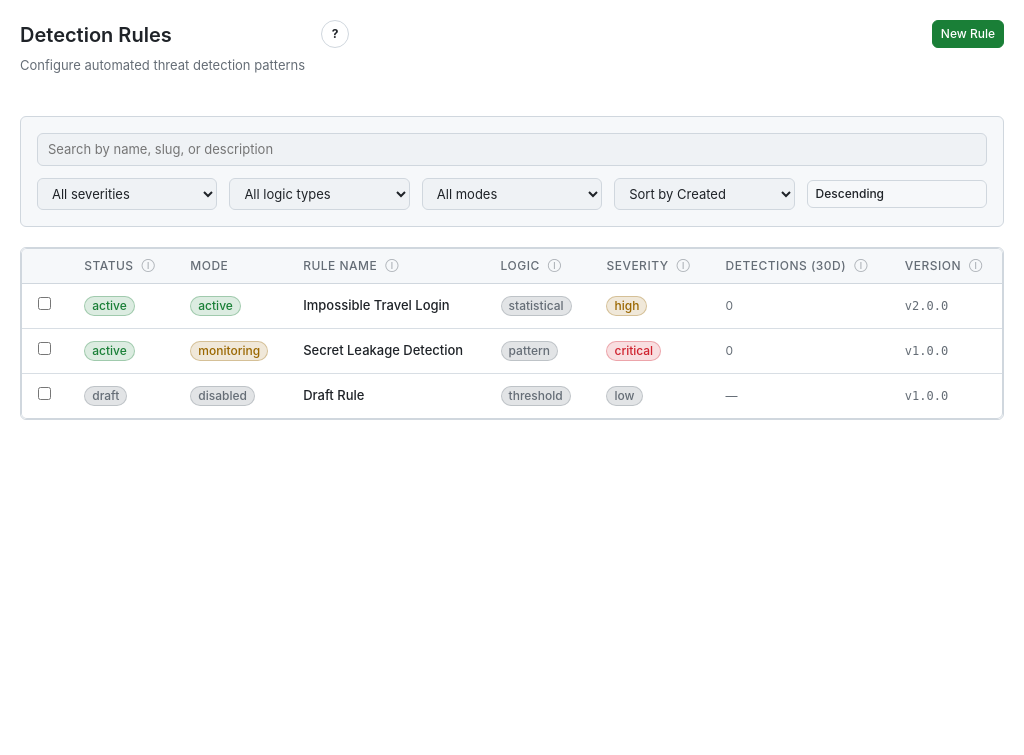
Test: RulesPage › opens a rule detail drawer on row click
Step 1. Click the text "Impossible Travel Login" → point(386, 306), box [303,296,469,316]
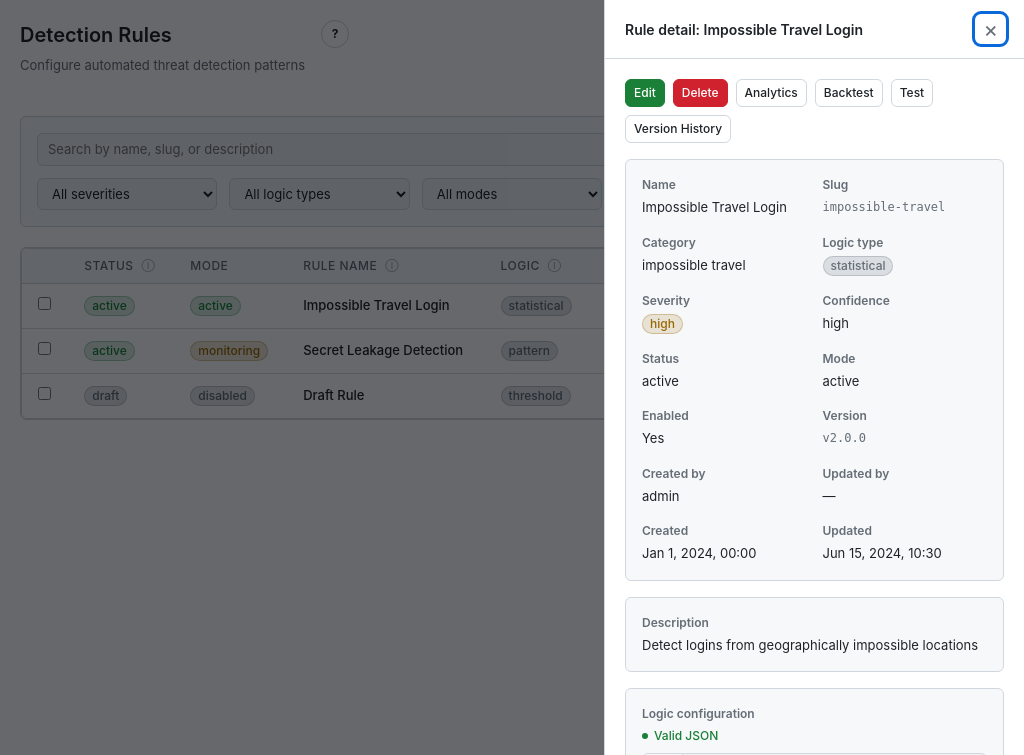
Now the text "Rule detail: Impossible Travel Login" is shown, box [625,18,863,40]
Now the button "Edit" is shown, box [625,79,665,107]
Now the button "Version History" is shown, box [625,115,731,143]
